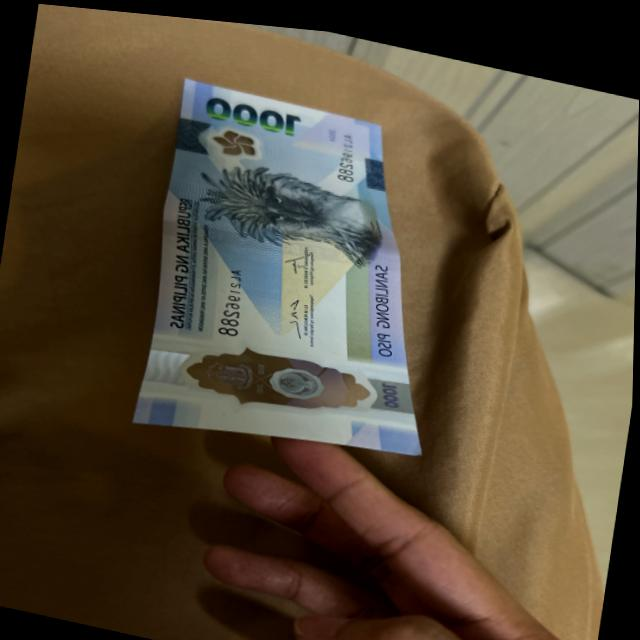clear_window: (178, 327, 383, 422)
eagle: (213, 154, 383, 258)
sampaguita: (211, 118, 255, 155)
